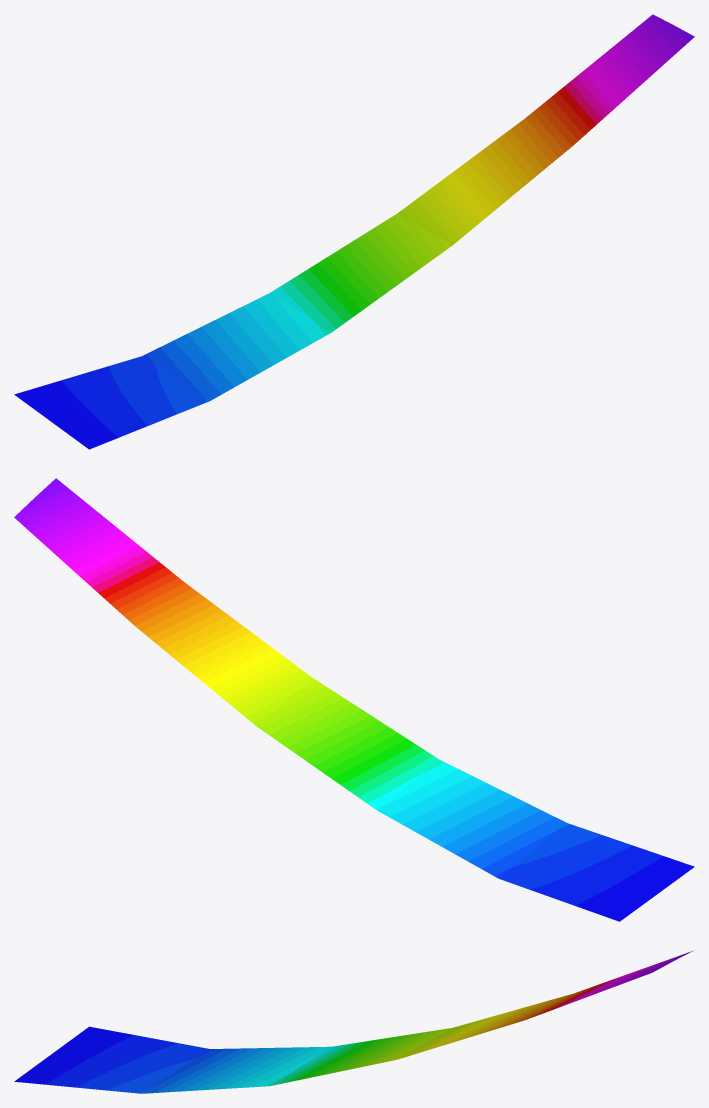
3 renders of one model, top to bottom at view 1: azimuth 30°, elevation 25°; view 2: azimuth 150°, elevation 25°; view 3: azimuth 330°, elevation 25°, orthographic.
Visible parts, largest first — view 1: Elements; view 2: Elements; view 3: Elements.
Boxes of the visible parts, x1,y1,x2,y2 form: Elements: (14,14,694,449); Elements: (14,478,694,921); Elements: (14,950,693,1093).
Size of the model in its own units: 1 by 0.3822 by 0.2095.
Materials: 1 (1 with a texture image).
